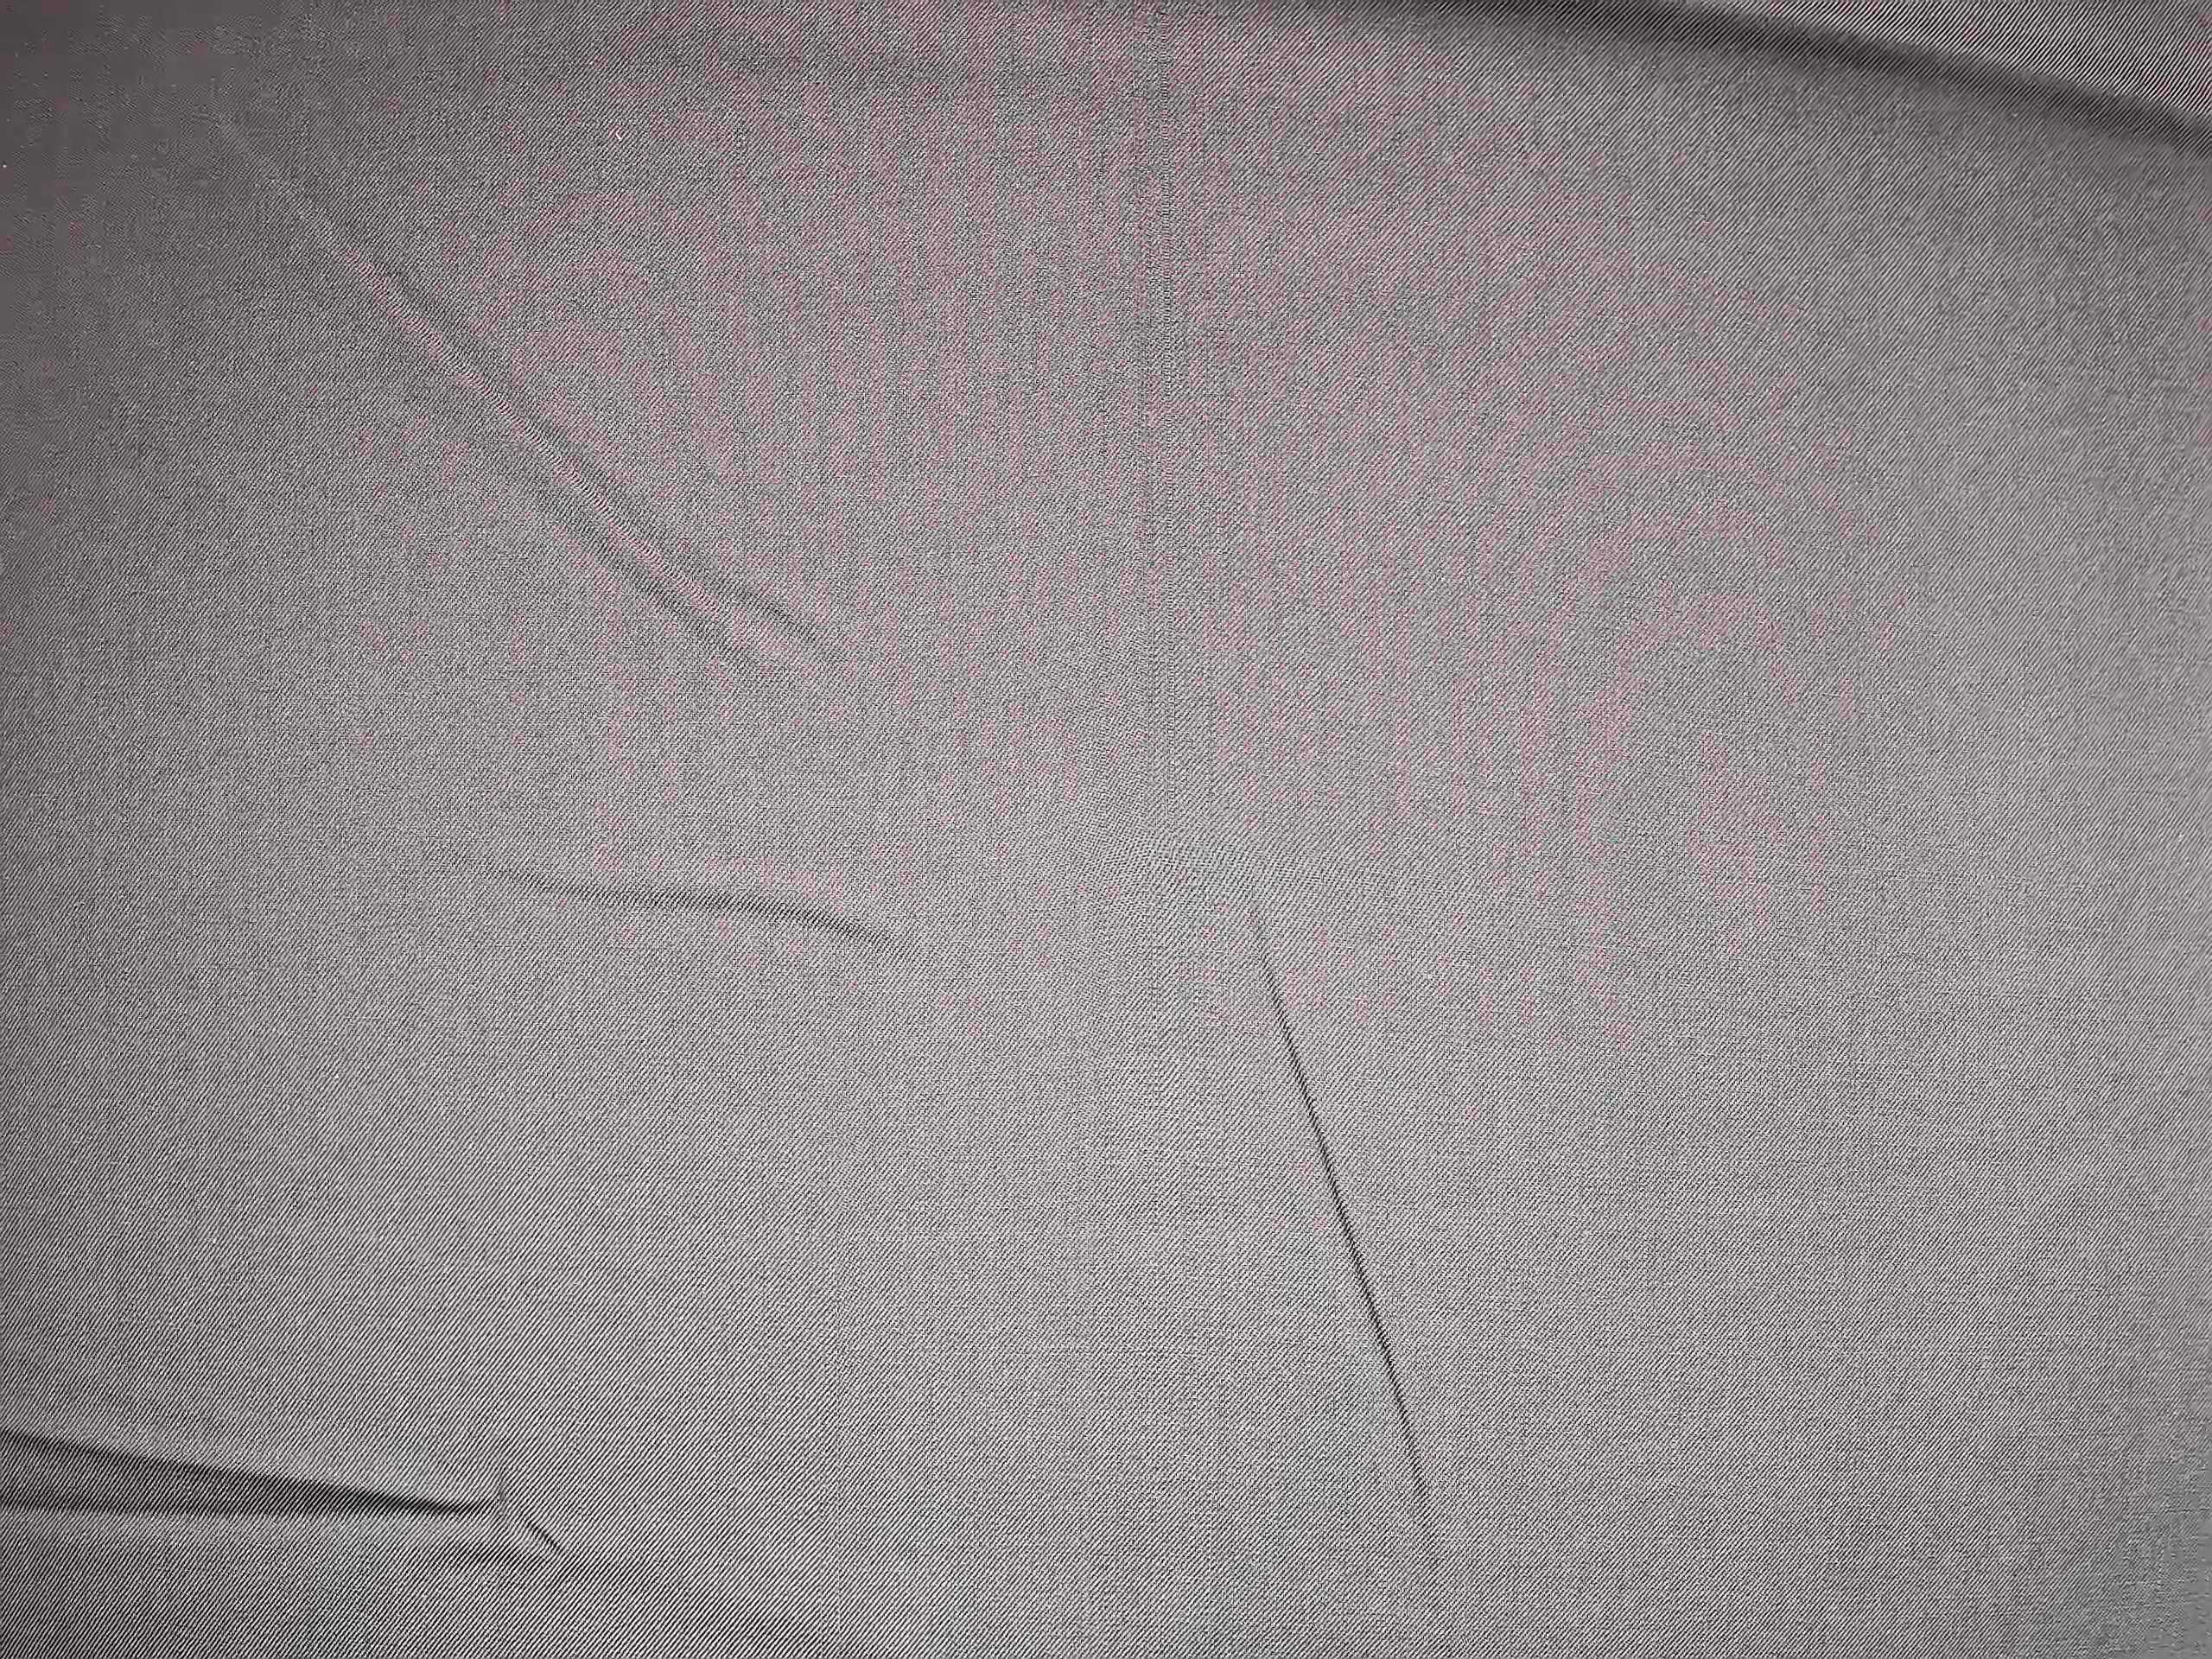hanging-warp: (1118, 3, 1193, 1251)
